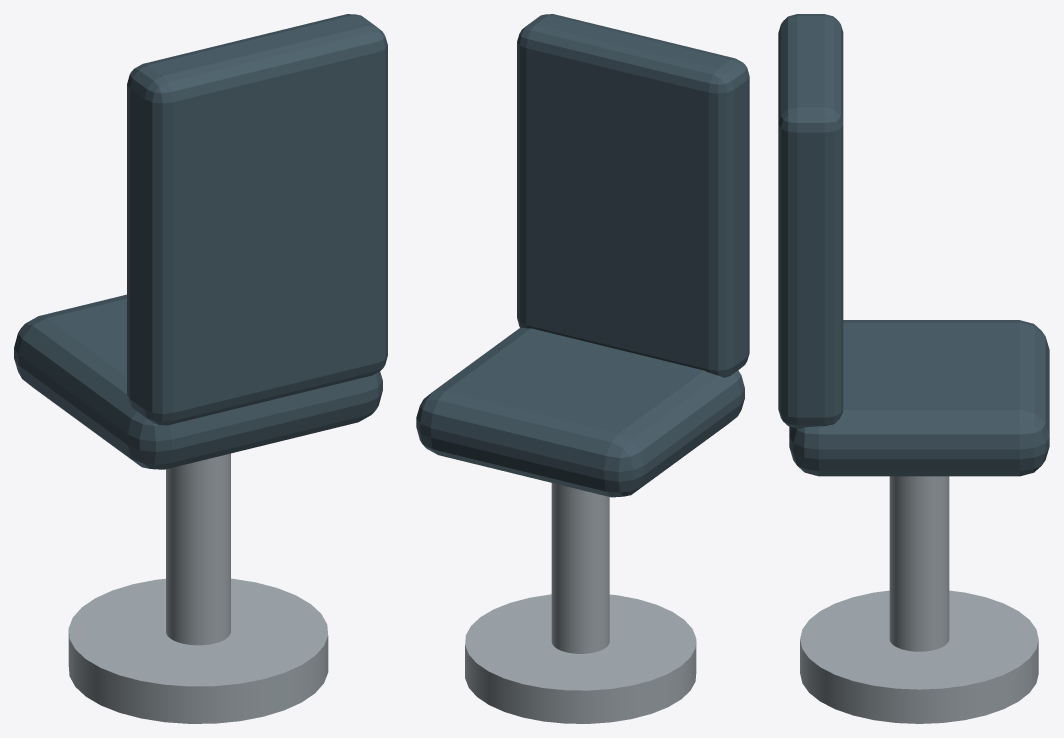
The model's file is passenger_seat.glb.
3 renders of one model, left to right at view 1: azimuth 30°, elevation 25°; view 2: azimuth 150°, elevation 25°; view 3: azimuth 270°, elevation 25°, orthographic. The views are drawn at different scales.
Parts seen in each view (by area): view 1: Back cushion.001, Deck foot.001, Seat cushion.001, Pedestal.001; view 2: Back cushion.001, Seat cushion.001, Deck foot.001, Pedestal.001; view 3: Seat cushion.001, Back cushion.001, Deck foot.001, Pedestal.001.
Part boxes in pixels (x1,y1,x2,y2): Back cushion.001: (127,14,387,425); Deck foot.001: (68,578,328,723); Seat cushion.001: (14,294,382,469); Pedestal.001: (166,453,230,645); Back cushion.001: (517,14,749,377); Seat cushion.001: (416,327,744,497); Deck foot.001: (465,594,696,723); Pedestal.001: (551,483,609,653); Seat cushion.001: (789,320,1049,476); Back cushion.001: (778,14,843,428); Deck foot.001: (800,590,1038,723); Pedestal.001: (889,476,949,651).
Bounding box in the file's own units: 0.49 × 1.25 × 0.5.
